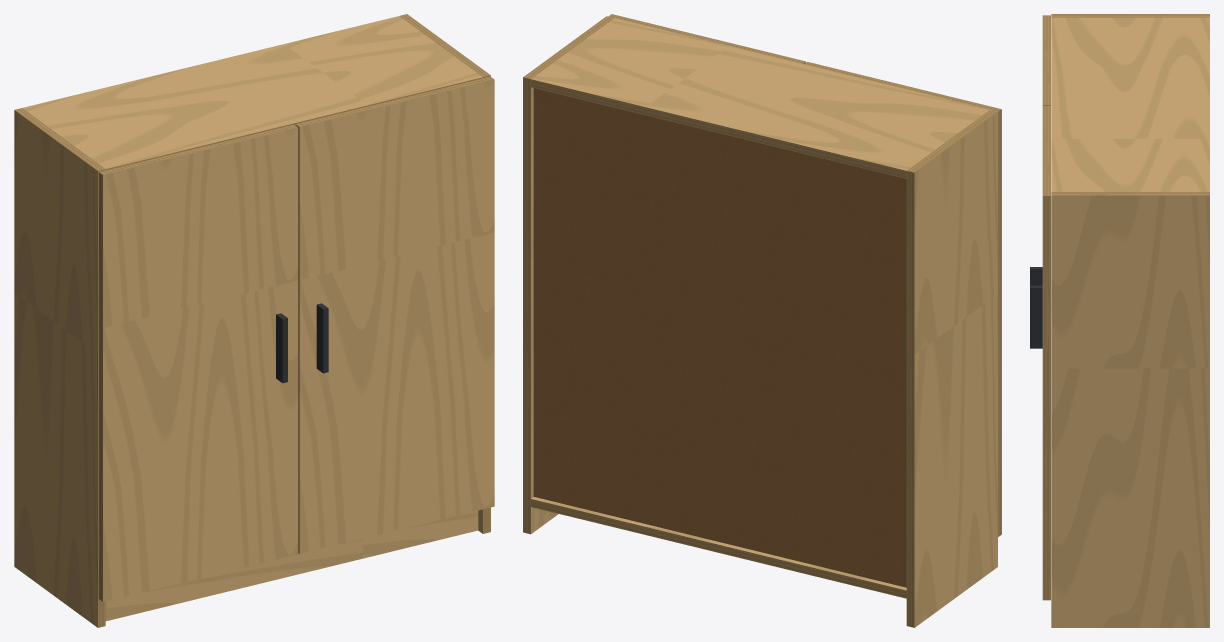
File: HIN-SHO-std.glb
The picture shows the model from 3 angles, left to right: view 1: azimuth 30°, elevation 25°; view 2: azimuth 150°, elevation 25°; view 3: azimuth 270°, elevation 25°; orthographic projection. The views are drawn at different scales.
Visible parts, largest first — view 1: door-r:sheet:eyJtIjoicGx5Iiwic2lkZSI6ImZhY2UiLCJzZWVkIjoyLCJ, door-l:sheet:eyJtIjoicGx5Iiwic2lkZSI6ImZhY2UiLCJzZWVkIjoyLCJ, side-l:sheet:eyJtIjoicGx5Iiwic2lkZSI6ImZhY2UiLCJzZWVkIjoxLCJ, top:sheet:eyJtIjoicGx5Iiwic2lkZSI6ImZhY2UiLCJzZWVkIjo2LCJ2ZW, plinth:sheet:eyJtIjoicGx5Iiwic2lkZSI6ImZhY2UiLCJzZWVkIjozLCJ, door-l:sheet:eyJtIjoicGx5Iiwic2lkZSI6ImVkZ2UtbG9uZyIsInNlZWQ, pull, door-l:sheet:eyJtIjoicGx5Iiwic2lkZSI6ImVkZ2UtZW5kIiwic2VlZCI, door-r:sheet:eyJtIjoicGx5Iiwic2lkZSI6ImVkZ2UtZW5kIiwic2VlZCI, door-r:sheet:eyJtIjoicGx5Iiwic2lkZSI6ImVkZ2UtbG9uZyIsInNlZWQ, side-l:sheet:eyJtIjoicGx5Iiwic2lkZSI6ImVkZ2UtZW5kIiwic2VlZCI, side-r:sheet:eyJtIjoicGx5Iiwic2lkZSI6ImVkZ2UtZW5kIiwic2VlZCI (+2 smaller); view 2: back:sheet:eyJtIjoibWRmIiwic2lkZSI6ImZhY2UiLCJzZWVkIjoxLCJ0a, side-l:sheet:eyJtIjoicGx5Iiwic2lkZSI6ImZhY2UiLCJzZWVkIjoxLCJ, top:sheet:eyJtIjoicGx5Iiwic2lkZSI6ImZhY2UiLCJzZWVkIjo2LCJ2ZW, side-l:sheet:eyJtIjoicGx5Iiwic2lkZSI6ImVkZ2UtbG9uZyIsInNlZWQ, side-r:sheet:eyJtIjoicGx5Iiwic2lkZSI6ImVkZ2UtbG9uZyIsInNlZWQ, top:sheet:eyJtIjoicGx5Iiwic2lkZSI6ImVkZ2UtbG9uZyIsInNlZWQiOj, bottom:sheet:eyJtIjoicGx5Iiwic2lkZSI6ImVkZ2UtbG9uZyIsInNlZWQ, door-l:sheet:eyJtIjoicGx5Iiwic2lkZSI6ImVkZ2UtbG9uZyIsInNlZWQ, side-r:sheet:eyJtIjoicGx5Iiwic2lkZSI6ImZhY2UiLCJzZWVkIjozLCJ, bottom:sheet:eyJtIjoicGx5Iiwic2lkZSI6ImZhY2UiLCJzZWVkIjowLCJ, door-l:sheet:eyJtIjoicGx5Iiwic2lkZSI6ImVkZ2UtZW5kIiwic2VlZCI, door-r:sheet:eyJtIjoicGx5Iiwic2lkZSI6ImVkZ2UtZW5kIiwic2VlZCI (+2 smaller); view 3: side-r:sheet:eyJtIjoicGx5Iiwic2lkZSI6ImZhY2UiLCJzZWVkIjozLCJ, top:sheet:eyJtIjoicGx5Iiwic2lkZSI6ImZhY2UiLCJzZWVkIjo2LCJ2ZW, door-r:sheet:eyJtIjoicGx5Iiwic2lkZSI6ImVkZ2UtbG9uZyIsInNlZWQ, pull, door-l:sheet:eyJtIjoicGx5Iiwic2lkZSI6ImVkZ2UtZW5kIiwic2VlZCI, door-r:sheet:eyJtIjoicGx5Iiwic2lkZSI6ImVkZ2UtZW5kIiwic2VlZCI, side-l:sheet:eyJtIjoicGx5Iiwic2lkZSI6ImVkZ2UtZW5kIiwic2VlZCI, side-r:sheet:eyJtIjoicGx5Iiwic2lkZSI6ImVkZ2UtZW5kIiwic2VlZCI.
Boxes of the visible parts, x1,y1,x2,y2 form: door-r:sheet:eyJtIjoicGx5Iiwic2lkZSI6ImZhY2UiLCJzZWVkIjoyLCJ: [299, 79, 494, 553]; door-l:sheet:eyJtIjoicGx5Iiwic2lkZSI6ImZhY2UiLCJzZWVkIjoyLCJ: [103, 127, 298, 601]; side-l:sheet:eyJtIjoicGx5Iiwic2lkZSI6ImZhY2UiLCJzZWVkIjoxLCJ: [14, 110, 97, 627]; top:sheet:eyJtIjoicGx5Iiwic2lkZSI6ImZhY2UiLCJzZWVkIjo2LCJ2ZW: [22, 16, 482, 168]; plinth:sheet:eyJtIjoicGx5Iiwic2lkZSI6ImZhY2UiLCJzZWVkIjozLCJ: [105, 510, 478, 621]; door-l:sheet:eyJtIjoicGx5Iiwic2lkZSI6ImVkZ2UtbG9uZyIsInNlZWQ: [98, 172, 102, 601]; pull: [276, 303, 328, 383]; door-l:sheet:eyJtIjoicGx5Iiwic2lkZSI6ImVkZ2UtZW5kIiwic2VlZCI: [99, 124, 297, 174]; door-r:sheet:eyJtIjoicGx5Iiwic2lkZSI6ImVkZ2UtZW5kIiwic2VlZCI: [295, 76, 494, 127]; door-r:sheet:eyJtIjoicGx5Iiwic2lkZSI6ImVkZ2UtbG9uZyIsInNlZWQ: [295, 124, 299, 553]; side-l:sheet:eyJtIjoicGx5Iiwic2lkZSI6ImVkZ2UtZW5kIiwic2VlZCI: [14, 108, 105, 170]; side-r:sheet:eyJtIjoicGx5Iiwic2lkZSI6ImVkZ2UtZW5kIiwic2VlZCI: [400, 14, 490, 76]; back:sheet:eyJtIjoibWRmIiwic2lkZSI6ImZhY2UiLCJzZWVkIjoxLCJ0a: [533, 88, 906, 587]; side-l:sheet:eyJtIjoicGx5Iiwic2lkZSI6ImZhY2UiLCJzZWVkIjoxLCJ: [914, 112, 997, 627]; top:sheet:eyJtIjoicGx5Iiwic2lkZSI6ImZhY2UiLCJzZWVkIjo2LCJ2ZW: [531, 18, 989, 170]; side-l:sheet:eyJtIjoicGx5Iiwic2lkZSI6ImVkZ2UtbG9uZyIsInNlZWQ: [906, 171, 914, 627]; side-r:sheet:eyJtIjoicGx5Iiwic2lkZSI6ImVkZ2UtbG9uZyIsInNlZWQ: [523, 77, 530, 534]; top:sheet:eyJtIjoicGx5Iiwic2lkZSI6ImVkZ2UtbG9uZyIsInNlZWQiOj: [531, 79, 906, 178]; bottom:sheet:eyJtIjoicGx5Iiwic2lkZSI6ImVkZ2UtbG9uZyIsInNlZWQ: [531, 499, 906, 598]; door-l:sheet:eyJtIjoicGx5Iiwic2lkZSI6ImVkZ2UtbG9uZyIsInNlZWQ: [998, 109, 1001, 536]; side-r:sheet:eyJtIjoicGx5Iiwic2lkZSI6ImZhY2UiLCJzZWVkIjozLCJ: [531, 87, 558, 533]; bottom:sheet:eyJtIjoicGx5Iiwic2lkZSI6ImZhY2UiLCJzZWVkIjowLCJ: [531, 497, 906, 590]; door-l:sheet:eyJtIjoicGx5Iiwic2lkZSI6ImVkZ2UtZW5kIiwic2VlZCI: [804, 62, 1001, 111]; door-r:sheet:eyJtIjoicGx5Iiwic2lkZSI6ImVkZ2UtZW5kIiwic2VlZCI: [608, 14, 805, 63]; side-r:sheet:eyJtIjoicGx5Iiwic2lkZSI6ImZhY2UiLCJzZWVkIjozLCJ: [1051, 195, 1209, 627]; top:sheet:eyJtIjoicGx5Iiwic2lkZSI6ImZhY2UiLCJzZWVkIjo2LCJ2ZW: [1051, 17, 1209, 191]; door-r:sheet:eyJtIjoicGx5Iiwic2lkZSI6ImVkZ2UtbG9uZyIsInNlZWQ: [1042, 196, 1050, 600]; pull: [1030, 267, 1042, 348]; door-l:sheet:eyJtIjoicGx5Iiwic2lkZSI6ImVkZ2UtZW5kIiwic2VlZCI: [1042, 15, 1050, 105]; door-r:sheet:eyJtIjoicGx5Iiwic2lkZSI6ImVkZ2UtZW5kIiwic2VlZCI: [1042, 106, 1050, 195]; side-l:sheet:eyJtIjoicGx5Iiwic2lkZSI6ImVkZ2UtZW5kIiwic2VlZCI: [1051, 14, 1209, 17]; side-r:sheet:eyJtIjoicGx5Iiwic2lkZSI6ImVkZ2UtZW5kIiwic2VlZCI: [1051, 192, 1209, 195].
Size of the model in its own units: 0.9 by 1 by 0.3766.
Materials: 34 (33 with a texture image).
